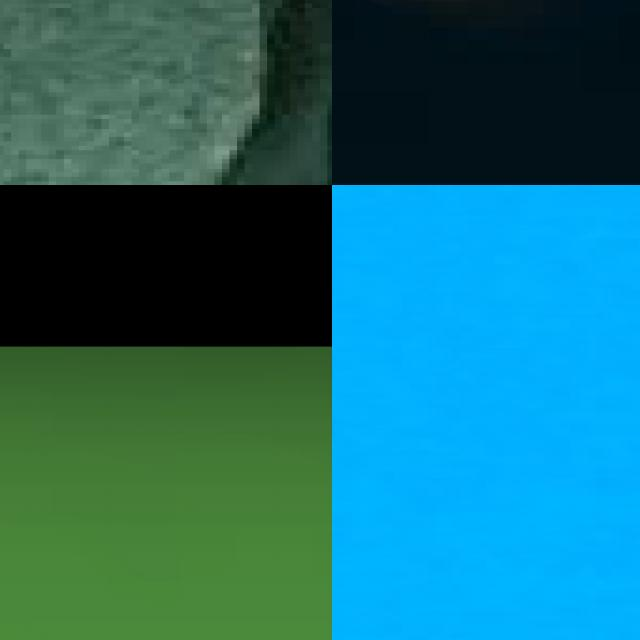fish: (0, 0, 332, 185)
